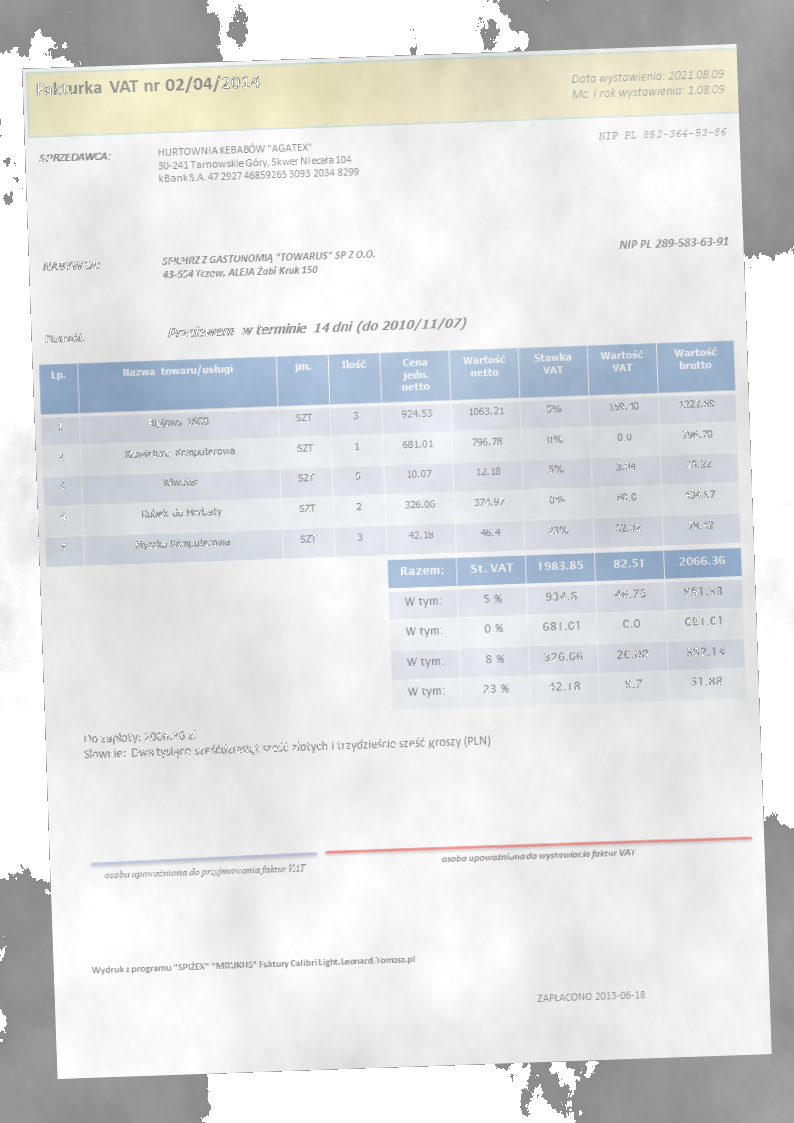Table: (37, 339, 741, 568), (386, 545, 747, 712)
TextBox: (81, 717, 492, 764), (155, 138, 361, 184), (164, 315, 469, 343), (90, 952, 418, 977), (159, 246, 377, 281), (33, 72, 263, 100), (569, 66, 728, 102), (440, 845, 637, 867), (102, 861, 308, 882), (594, 124, 729, 143), (617, 234, 732, 252), (534, 987, 649, 1004), (37, 148, 112, 164), (39, 256, 103, 274), (41, 331, 87, 345)
